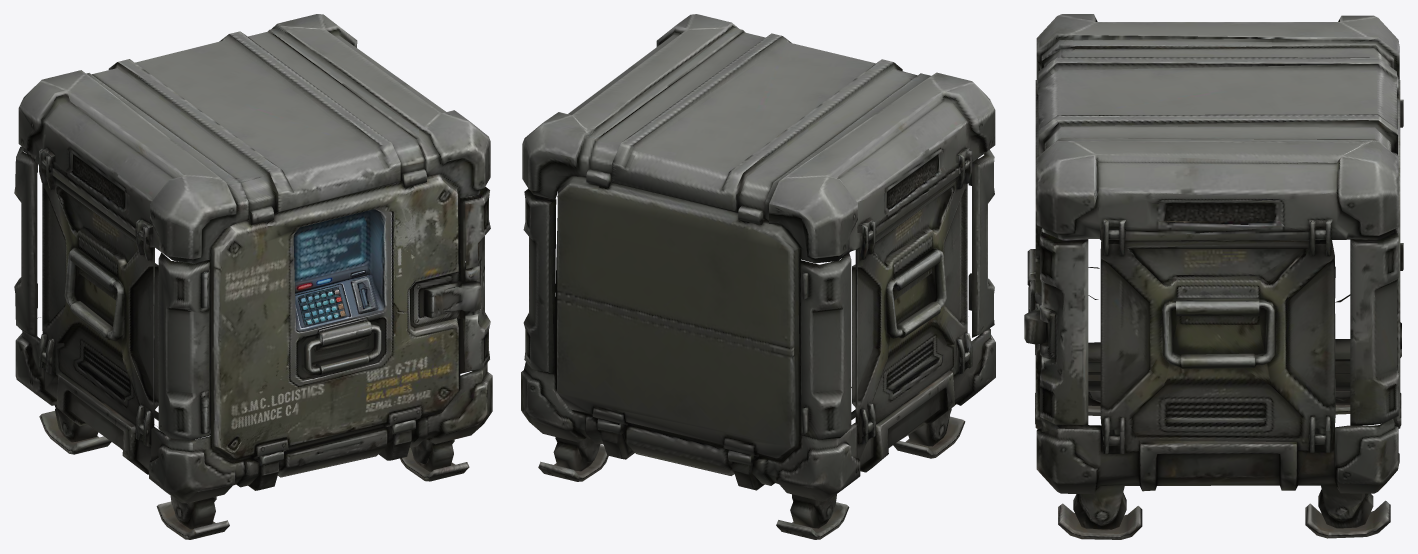
The model's file is 019eb027-50ab-7981-9f2a-edacc7ed7bce.glb.
The picture shows the model from 3 angles, left to right: view 1: azimuth 30°, elevation 25°; view 2: azimuth 150°, elevation 25°; view 3: azimuth 270°, elevation 25°; orthographic projection. The views are drawn at different scales.
Visible parts, largest first — view 1: tripo_node_31722fdb-e225-43e5-80c9-01544dda63bc; view 2: tripo_node_31722fdb-e225-43e5-80c9-01544dda63bc; view 3: tripo_node_31722fdb-e225-43e5-80c9-01544dda63bc.
Boxes of the visible parts, x1,y1,x2,y2 form: tripo_node_31722fdb-e225-43e5-80c9-01544dda63bc: [14, 14, 492, 539]; tripo_node_31722fdb-e225-43e5-80c9-01544dda63bc: [521, 14, 995, 539]; tripo_node_31722fdb-e225-43e5-80c9-01544dda63bc: [1024, 14, 1403, 539].
Size of the model in its own units: 0.9746 by 0.998 by 0.9043.
Materials: 1 (1 with a texture image).
